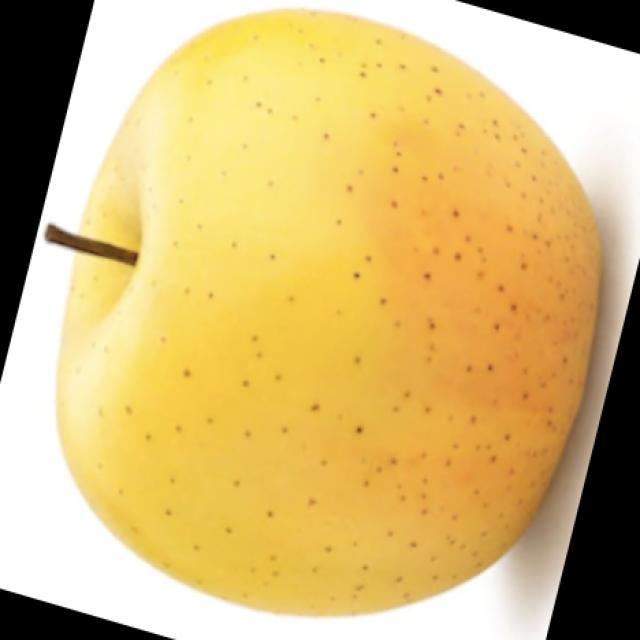Fresh Apple: (82, 17, 605, 610)
